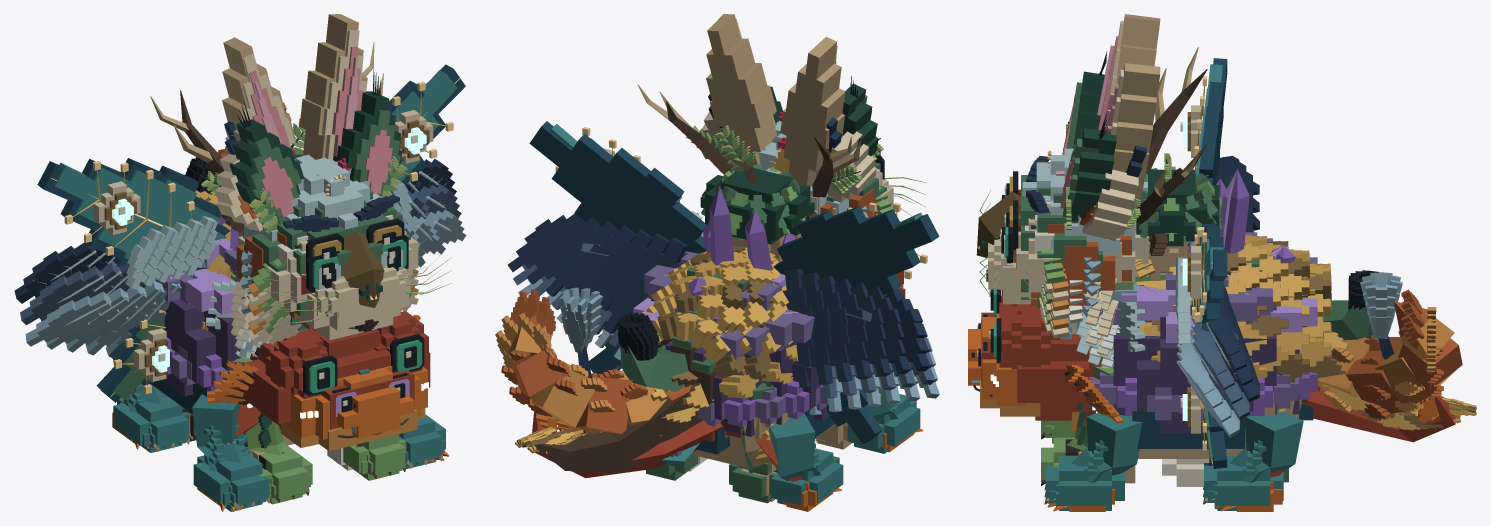
The model's file is wild-pets.glb.
3 renders of one model, left to right at view 1: azimuth 30°, elevation 25°; view 2: azimuth 150°, elevation 25°; view 3: azimuth 270°, elevation 25°, orthographic. The views are drawn at different scales.
Parts seen in each view (by area): view 1: fern-lynx-head-mesh, cinder-salamander-head-mesh, moonveil-gryphlet-wing-left-mesh, lantern-sprite-wing-left-mesh, blossom-jackalope-head-mesh, moonveil-gryphlet-head-mesh, amethyst-terrapin-body-mesh, rime-red-panda-head-mesh, amethyst-terrapin-leg-front-left-mesh, moonveil-gryphlet-wing-right-mesh, lantern-sprite-wing-right-mesh, amethyst-terrapin-leg-rear-left-mesh (+10 smaller); view 2: blossom-jackalope-head-mesh, moonveil-gryphlet-wing-left-mesh, amethyst-terrapin-body-mesh, crown-pangolin-body-mesh, moonveil-gryphlet-wing-right-mesh, rime-red-panda-tail-mesh, lantern-sprite-wing-right-mesh, lantern-sprite-wing-left-mesh, crown-pangolin-tail-mesh, lantern-sprite-head-mesh, amethyst-terrapin-leg-rear-left-mesh, fern-lynx-tail-mesh (+12 smaller); view 3: amethyst-terrapin-body-mesh, cinder-salamander-head-mesh, blossom-jackalope-head-mesh, fern-lynx-head-mesh, rime-red-panda-tail-mesh, crown-pangolin-body-mesh, moonveil-gryphlet-wing-right-mesh, rime-red-panda-head-mesh, moonveil-gryphlet-head-mesh, amethyst-terrapin-leg-front-right-mesh, amethyst-terrapin-leg-rear-right-mesh, lantern-sprite-head-mesh (+14 smaller).
Part boxes in pixels (left/top/right/bottom): fern-lynx-head-mesh: left=229, top=69, right=451, bottom=344; cinder-salamander-head-mesh: left=207, top=311, right=430, bottom=450; moonveil-gryphlet-wing-left-mesh: left=14, top=215, right=217, bottom=357; lantern-sprite-wing-left-mesh: left=37, top=158, right=230, bottom=402; blossom-jackalope-head-mesh: left=150, top=14, right=426, bottom=306; moonveil-gryphlet-head-mesh: left=224, top=121, right=404, bottom=313; amethyst-terrapin-body-mesh: left=150, top=200, right=294, bottom=445; rime-red-panda-head-mesh: left=214, top=154, right=440, bottom=344; amethyst-terrapin-leg-front-left-mesh: left=192, top=394, right=270, bottom=511; moonveil-gryphlet-wing-right-mesh: left=388, top=158, right=466, bottom=267; lantern-sprite-wing-right-mesh: left=388, top=64, right=465, bottom=185; amethyst-terrapin-leg-rear-left-mesh: left=113, top=359, right=189, bottom=452; blossom-jackalope-head-mesh: left=637, top=14, right=901, bottom=221; moonveil-gryphlet-wing-left-mesh: left=782, top=269, right=939, bottom=414; amethyst-terrapin-body-mesh: left=621, top=186, right=834, bottom=468; crown-pangolin-body-mesh: left=642, top=246, right=798, bottom=429; moonveil-gryphlet-wing-right-mesh: left=508, top=211, right=701, bottom=360; rime-red-panda-tail-mesh: left=495, top=289, right=696, bottom=434; lantern-sprite-wing-right-mesh: left=529, top=121, right=706, bottom=374; lantern-sprite-wing-left-mesh: left=773, top=202, right=939, bottom=444; crown-pangolin-tail-mesh: left=515, top=371, right=713, bottom=472; lantern-sprite-head-mesh: left=700, top=124, right=820, bottom=259; amethyst-terrapin-leg-rear-left-mesh: left=769, top=413, right=843, bottom=504; fern-lynx-tail-mesh: left=617, top=312, right=688, bottom=391; amethyst-terrapin-body-mesh: left=1071, top=169, right=1317, bottom=458; cinder-salamander-head-mesh: left=968, top=289, right=1123, bottom=423; blossom-jackalope-head-mesh: left=1024, top=14, right=1207, bottom=323; fern-lynx-head-mesh: left=979, top=51, right=1116, bottom=333; rime-red-panda-tail-mesh: left=1311, top=289, right=1462, bottom=419; crown-pangolin-body-mesh: left=1094, top=233, right=1331, bottom=402; moonveil-gryphlet-wing-right-mesh: left=1175, top=257, right=1259, bottom=437; rime-red-panda-head-mesh: left=993, top=169, right=1138, bottom=338; moonveil-gryphlet-head-mesh: left=976, top=133, right=1147, bottom=317; amethyst-terrapin-leg-front-right-mesh: left=1044, top=413, right=1142, bottom=510; amethyst-terrapin-leg-rear-right-mesh: left=1203, top=411, right=1303, bottom=510; lantern-sprite-head-mesh: left=1136, top=153, right=1222, bottom=280.
Size of the model in its own units: 1.18 by 1.1 by 1.2.
